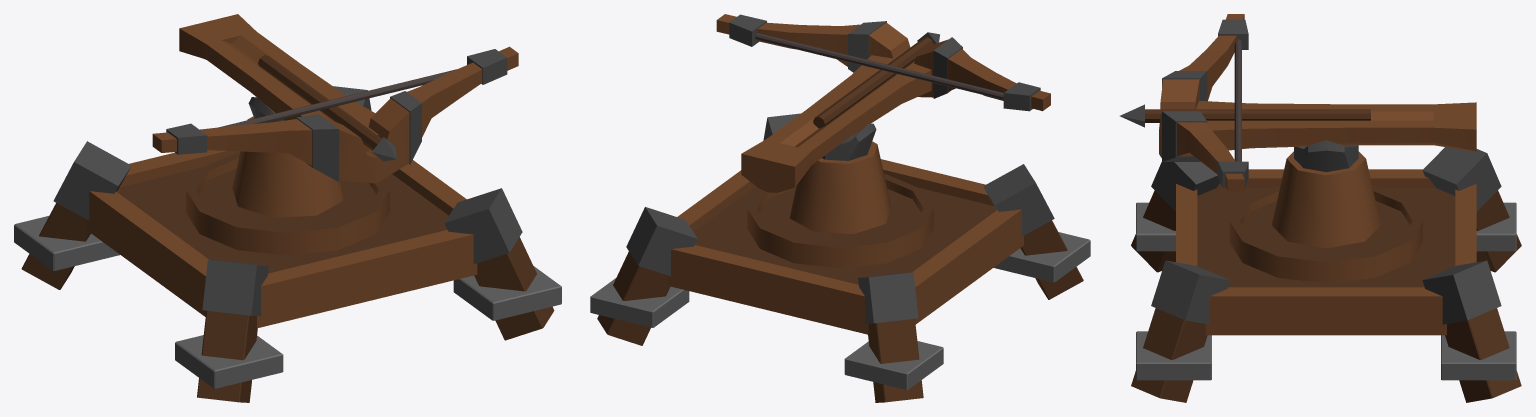
The model's file is Ballista_T1.fbx.
3 renders of one model, left to right at view 1: azimuth 30°, elevation 25°; view 2: azimuth 150°, elevation 25°; view 3: azimuth 270°, elevation 25°, orthographic. The views are drawn at different scales.
Parts seen in each view (by area): view 1: PlatformBase, TowerFoot, TowerBase, BowBody, BallistaBody, TowerRotator, IronStrengthening, ArrowBody, ArrowString; view 2: PlatformBase, TowerFoot, TowerBase, BallistaBody, TowerRotator, BowBody, IronStrengthening, ArrowString, ArrowBody; view 3: TowerFoot, PlatformBase, TowerBase, BallistaBody, TowerRotator, BowBody, IronStrengthening, ArrowBody, ArrowString.
Boxes of the visible parts, <box> form: PlatformBase: <box>87,150,477,328</box>; TowerFoot: <box>14,86,561,402</box>; TowerBase: <box>186,152,389,255</box>; BowBody: <box>152,46,518,183</box>; BallistaBody: <box>179,14,378,151</box>; TowerRotator: <box>232,97,343,217</box>; IronStrengthening: <box>166,49,507,181</box>; ArrowBody: <box>258,55,381,150</box>; ArrowString: <box>219,69,456,127</box>; PlatformBase: <box>667,159,1023,334</box>; TowerFoot: <box>590,113,1090,402</box>; TowerBase: <box>747,174,933,268</box>; BallistaBody: <box>741,52,931,192</box>; TowerRotator: <box>790,123,891,233</box>; BowBody: <box>716,14,1050,111</box>; IronStrengthening: <box>729,14,1040,111</box>; ArrowString: <box>755,33,1003,99</box>; ArrowBody: <box>813,37,933,128</box>; TowerFoot: <box>1131,147,1521,402</box>; PlatformBase: <box>1176,169,1476,335</box>; TowerBase: <box>1229,185,1422,283</box>; BallistaBody: <box>1196,101,1476,151</box>; TowerRotator: <box>1272,140,1380,248</box>; BowBody: <box>1159,14,1244,191</box>; IronStrengthening: <box>1162,19,1248,187</box>; ArrowBody: <box>1145,109,1370,122</box>; ArrowString: <box>1234,39,1241,161</box>.
Bounding box in the file's own units: 182 × 122 × 187.
